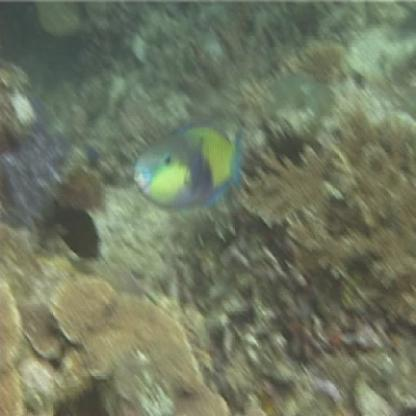Scaridae -Parrotfishes-: (132, 118, 253, 221)
